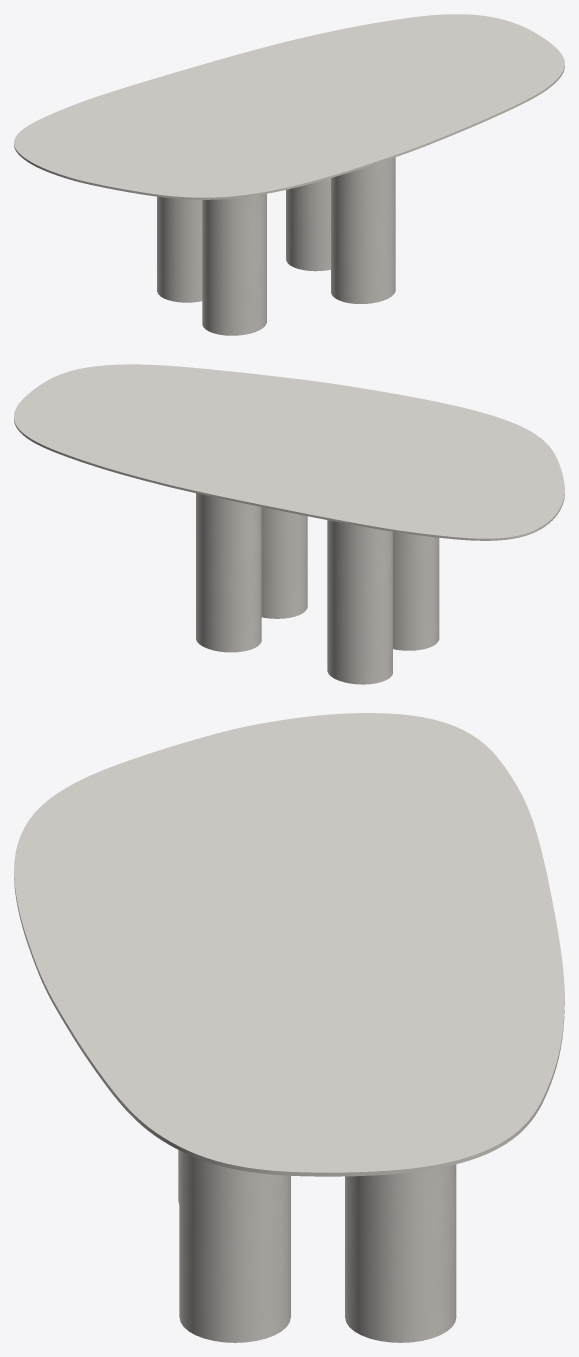
The model's file is pearlwhite_leaf2_facet_grove.glb.
3 renders of one model, top to bottom at view 1: azimuth 30°, elevation 25°; view 2: azimuth 150°, elevation 25°; view 3: azimuth 270°, elevation 25°, orthographic. The views are drawn at different scales.
Visible parts, largest first — view 1: facet_leaf2, grove; view 2: facet_leaf2, grove; view 3: facet_leaf2, grove.
Boxes of the visible parts, bbox=[...] form: facet_leaf2: bbox=[14, 14, 564, 199]; grove: bbox=[157, 157, 395, 335]; facet_leaf2: bbox=[14, 364, 564, 540]; grove: bbox=[196, 493, 439, 684]; facet_leaf2: bbox=[14, 713, 564, 1176]; grove: bbox=[178, 1150, 456, 1342].
Size of the model in its own units: 7.5 by 2.53 by 3.8.
Materials: 1 (1 with a texture image).
